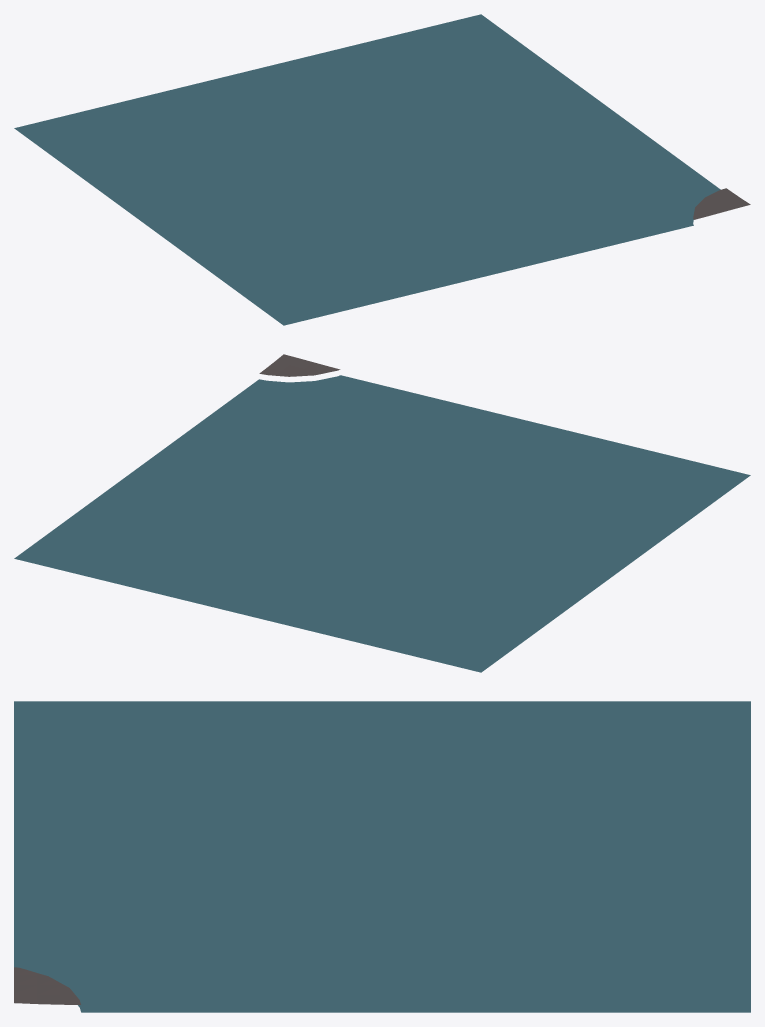
The picture shows the model from 3 angles, top to bottom: view 1: azimuth 30°, elevation 25°; view 2: azimuth 150°, elevation 25°; view 3: azimuth 270°, elevation 25°; orthographic projection. The views are drawn at different scales.
Visible parts, largest first — view 1: c_p04_p06; view 2: c_p04_p06; view 3: c_p04_p06.
Boxes of the visible parts, x1,y1,x2,y2 form: c_p04_p06: (14, 14, 750, 325); c_p04_p06: (14, 354, 750, 672); c_p04_p06: (14, 701, 750, 1012).
Bounding box in the file's own units: 128 × 1.84 × 128.
